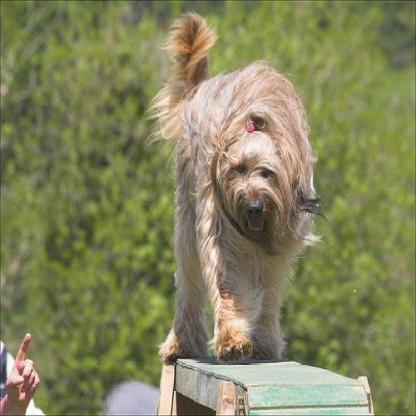briard: (144, 11, 327, 365)
